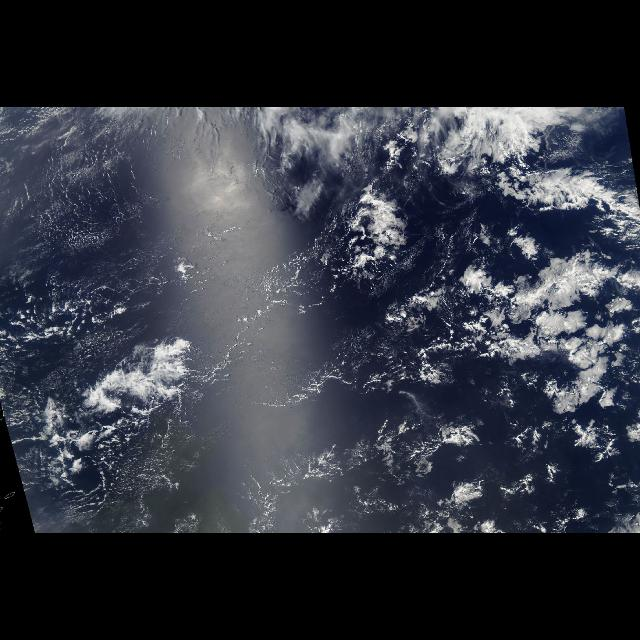Flower: (448, 195, 638, 471)
Sugar: (6, 114, 226, 308)
